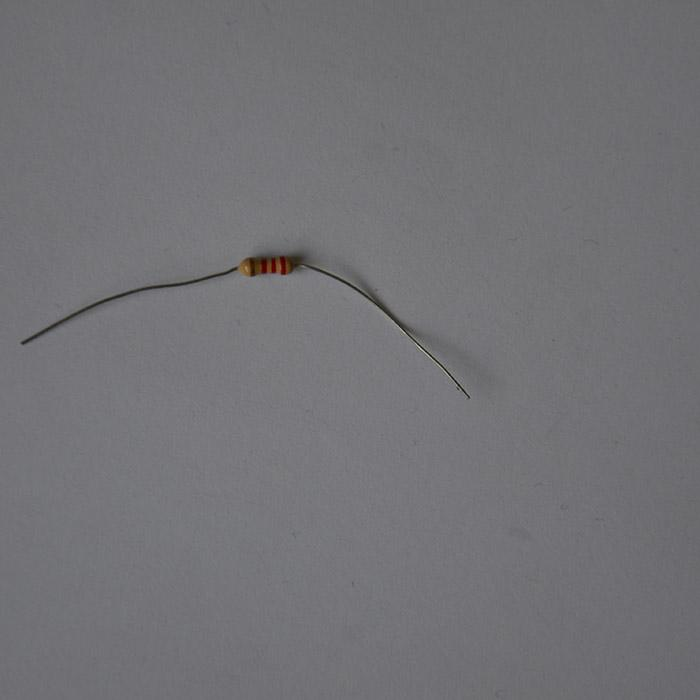resistor: (239, 256, 293, 277)
